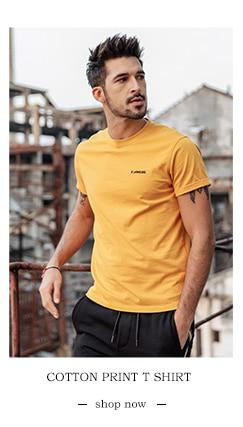pants: (73, 292, 194, 354)
